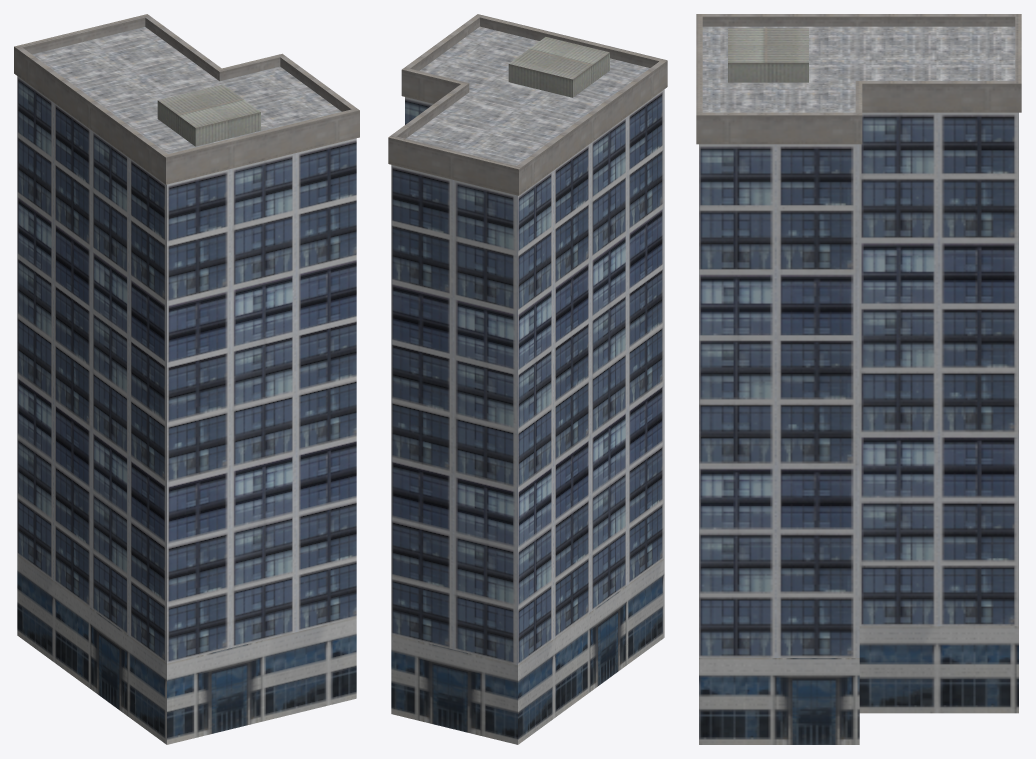
The model's file is building_46.obj.
3 renders of one model, left to right at view 1: azimuth 30°, elevation 25°; view 2: azimuth 150°, elevation 25°; view 3: azimuth 270°, elevation 25°, orthographic. The views are drawn at different scales.
Visible parts, largest first — view 1: BakedBuilding_343; view 2: BakedBuilding_343; view 3: BakedBuilding_343.
Part boxes in pixels (x1,y1,x2,y2): BakedBuilding_343: (14, 14, 359, 744); BakedBuilding_343: (388, 14, 667, 744); BakedBuilding_343: (696, 14, 1021, 744).
Bounding box in the file's own units: 73.74 × 217 × 100.
